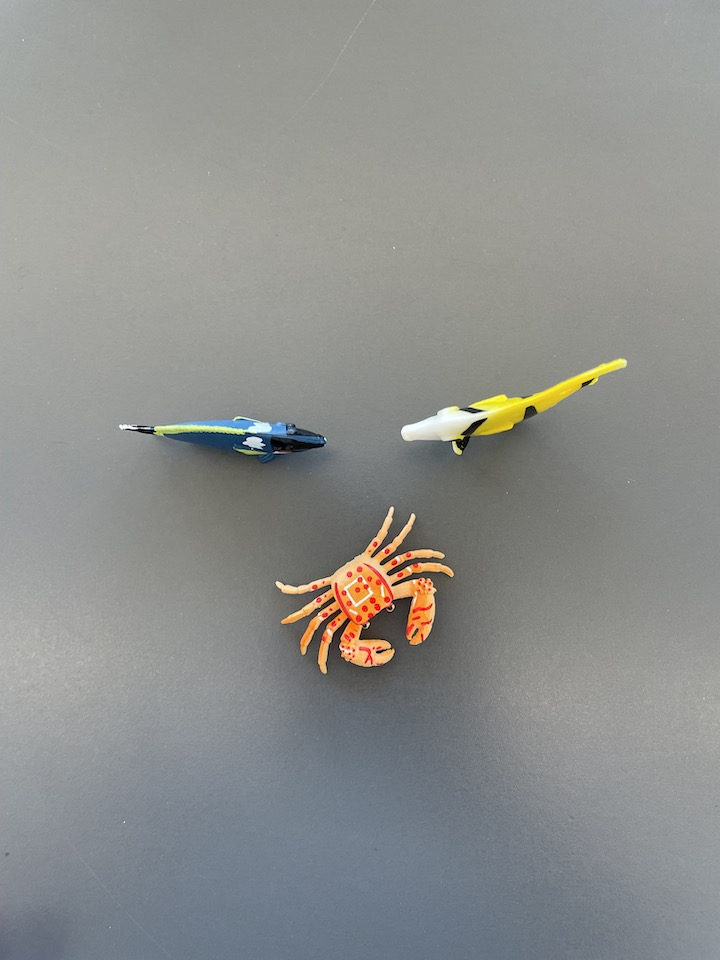crab: (268, 504, 462, 686)
fish: (396, 358, 628, 458), (120, 414, 331, 462)
